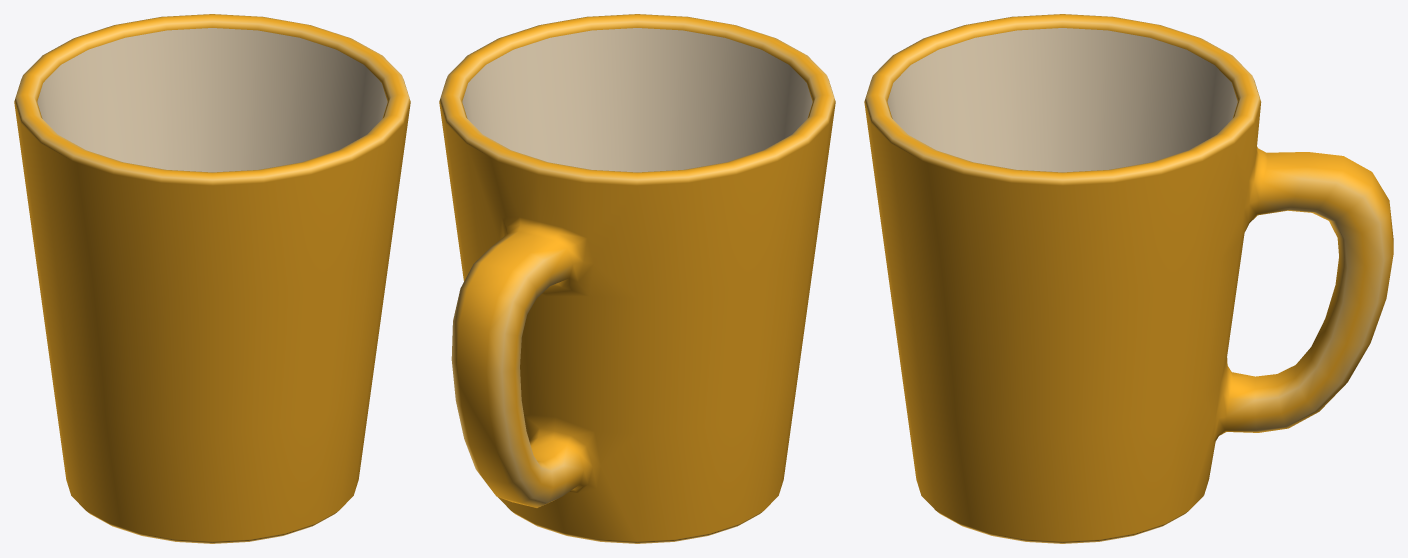
File: Cup_02.glb
3 renders of one model, left to right at view 1: azimuth 30°, elevation 25°; view 2: azimuth 150°, elevation 25°; view 3: azimuth 270°, elevation 25°, orthographic.
Parts seen in each view (by area): view 1: Cup_02; view 2: Cup_02; view 3: Cup_02.
Part boxes in pixels (x1=…): Cup_02: x1=14, y1=14, x2=410, y2=543; Cup_02: x1=439, y1=14, x2=835, y2=543; Cup_02: x1=864, y1=14, x2=1393, y2=543.
Size of the model in its own units: 0.091 by 0.0986 by 0.1215.
Materials: 1 (1 with a texture image).
